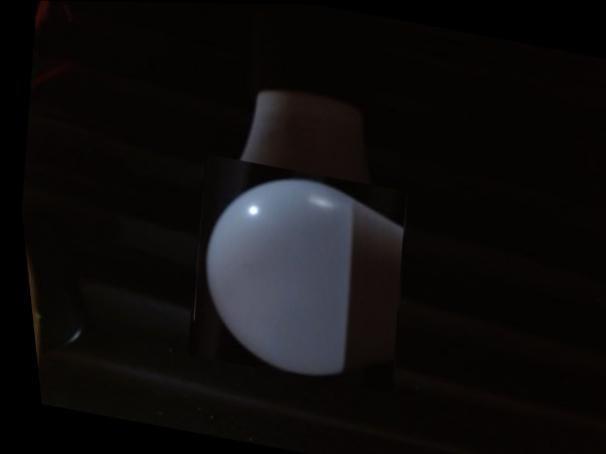Fan: (164, 152, 418, 390)
